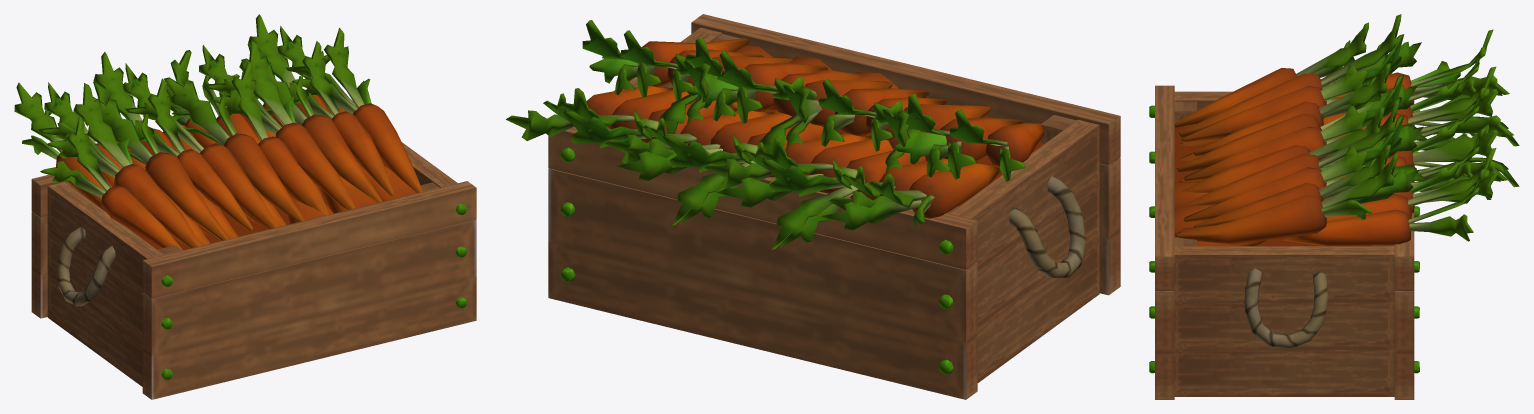
File: farm_crate_carrot.glb
3 views of the same model, side by side, from view 1: azimuth 30°, elevation 25°; view 2: azimuth 150°, elevation 25°; view 3: azimuth 270°, elevation 25° (orthographic). The views are drawn at different scales.
Parts seen in each view (by area): view 1: FarmCrate_Carrot; view 2: FarmCrate_Carrot; view 3: FarmCrate_Carrot.
Boxes of the visible parts, x1=… form: FarmCrate_Carrot: x1=14, y1=14, x2=476, y2=399; FarmCrate_Carrot: x1=506, y1=14, x2=1120, y2=399; FarmCrate_Carrot: x1=1149, y1=14, x2=1519, y2=399.
Size of the model in its own units: 0.7138 by 0.4113 by 0.567.
3 materials, 3 textured.
